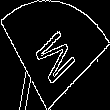M_SW: (30, 21, 80, 89)
